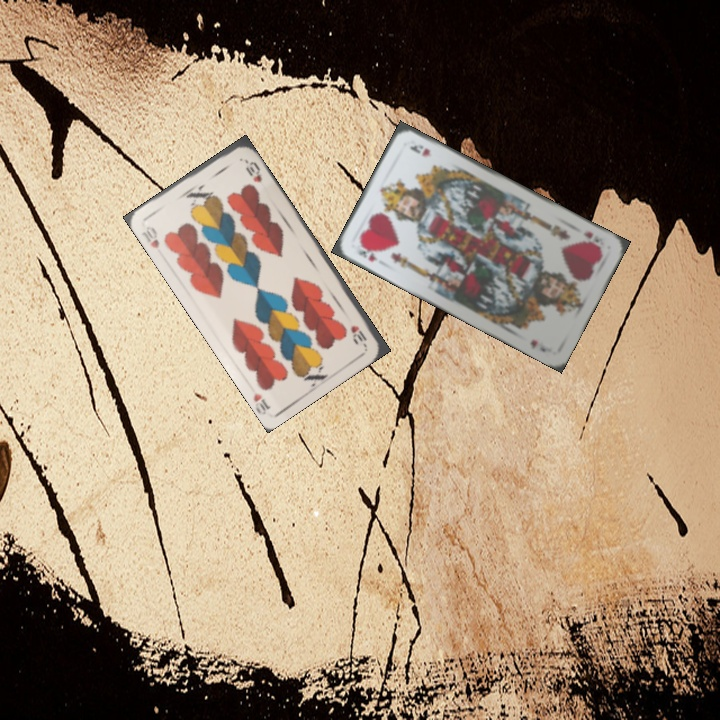H10: (138, 222, 162, 251), (347, 321, 369, 348)
HK: (352, 241, 381, 264), (579, 227, 604, 252)
